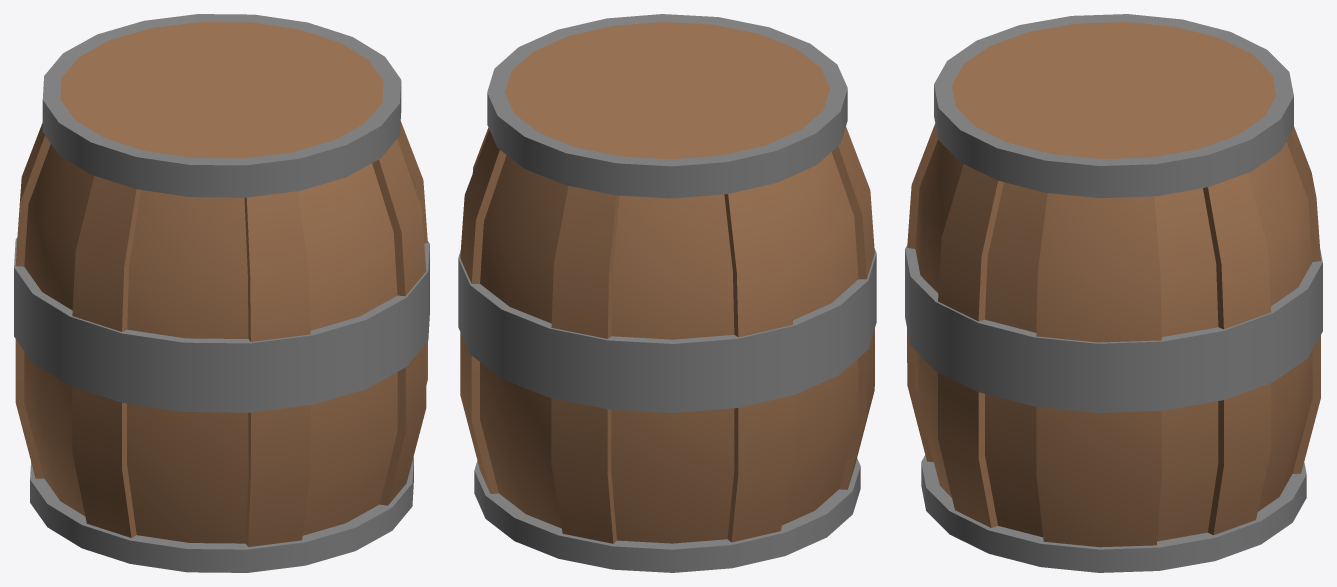
Rendered from Barrel.fbx.
3 renders of one model, left to right at view 1: azimuth 30°, elevation 25°; view 2: azimuth 150°, elevation 25°; view 3: azimuth 270°, elevation 25°, orthographic.
Visible parts, largest first — view 1: polySurface4; view 2: polySurface4; view 3: polySurface4.
Part boxes in pixels (bbox=[...]): polySurface4: bbox=[14, 14, 429, 572]; polySurface4: bbox=[458, 14, 876, 572]; polySurface4: bbox=[905, 14, 1322, 572].
Bounding box in the file's own units: 8.12 × 8.61 × 8.12.
